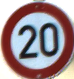20 km speed: (1, 1, 74, 78)
